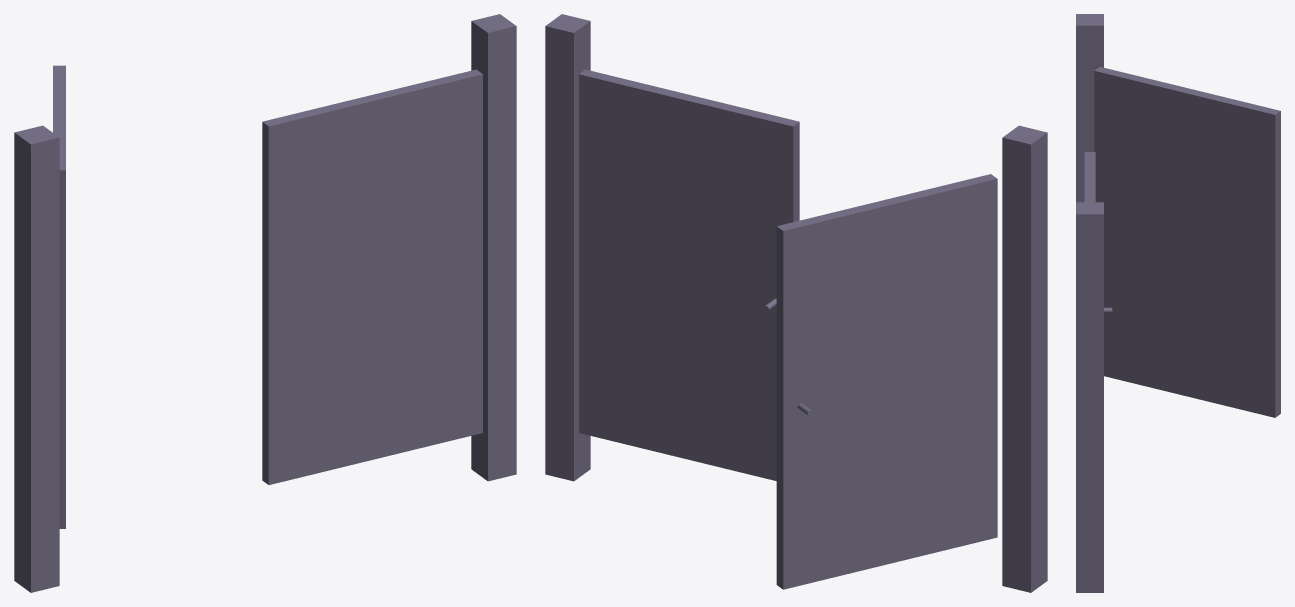
Rendered from start_gate.glb.
3 views of the same model, side by side, from view 1: azimuth 30°, elevation 25°; view 2: azimuth 150°, elevation 25°; view 3: azimuth 270°, elevation 25° (orthographic). The views are drawn at different scales.
Visible parts, largest first — view 1: post; view 2: post; view 3: post.
Part boxes in pixels (x1,y1,x2,y2): post: [14, 14, 516, 592]; post: [545, 14, 1047, 592]; post: [1076, 14, 1280, 592].
Size of the model in its own units: 1.7 by 1.5 by 0.7346.
